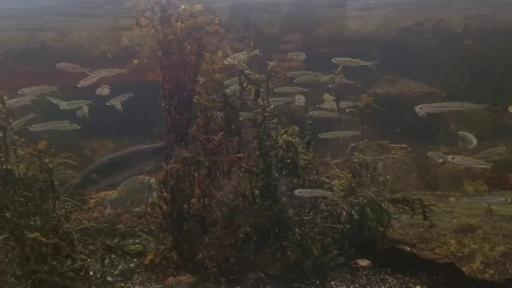Fish: (72, 143, 165, 195), (105, 176, 157, 209), (414, 102, 489, 116), (78, 68, 129, 87), (47, 97, 92, 109), (447, 156, 491, 168), (107, 93, 134, 112), (29, 121, 80, 131), (225, 50, 260, 64), (89, 67, 129, 77), (332, 58, 376, 67), (11, 114, 35, 130), (463, 196, 510, 204), (472, 147, 505, 158), (269, 95, 305, 105), (18, 86, 57, 95), (6, 95, 35, 107), (56, 63, 89, 73), (78, 74, 103, 87), (295, 189, 334, 197), (459, 132, 477, 149), (319, 131, 362, 138), (60, 100, 92, 109), (322, 76, 357, 84), (294, 75, 329, 83), (269, 97, 294, 106), (287, 71, 321, 77), (275, 87, 308, 93), (323, 94, 336, 109), (309, 111, 341, 117), (427, 152, 448, 161), (47, 96, 65, 106), (225, 82, 240, 94), (77, 105, 89, 119), (288, 52, 306, 61), (96, 84, 110, 95), (339, 102, 361, 108), (224, 77, 238, 86), (318, 103, 335, 109), (295, 95, 305, 105), (240, 112, 252, 119), (255, 75, 266, 81), (508, 106, 511, 113)
